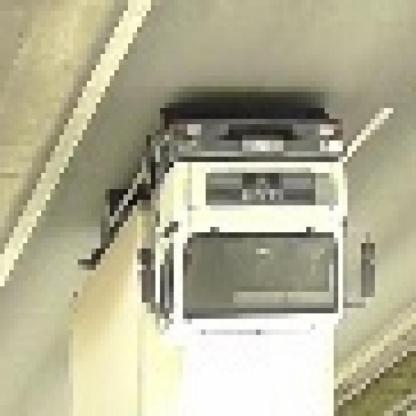truck: (74, 98, 380, 416)
